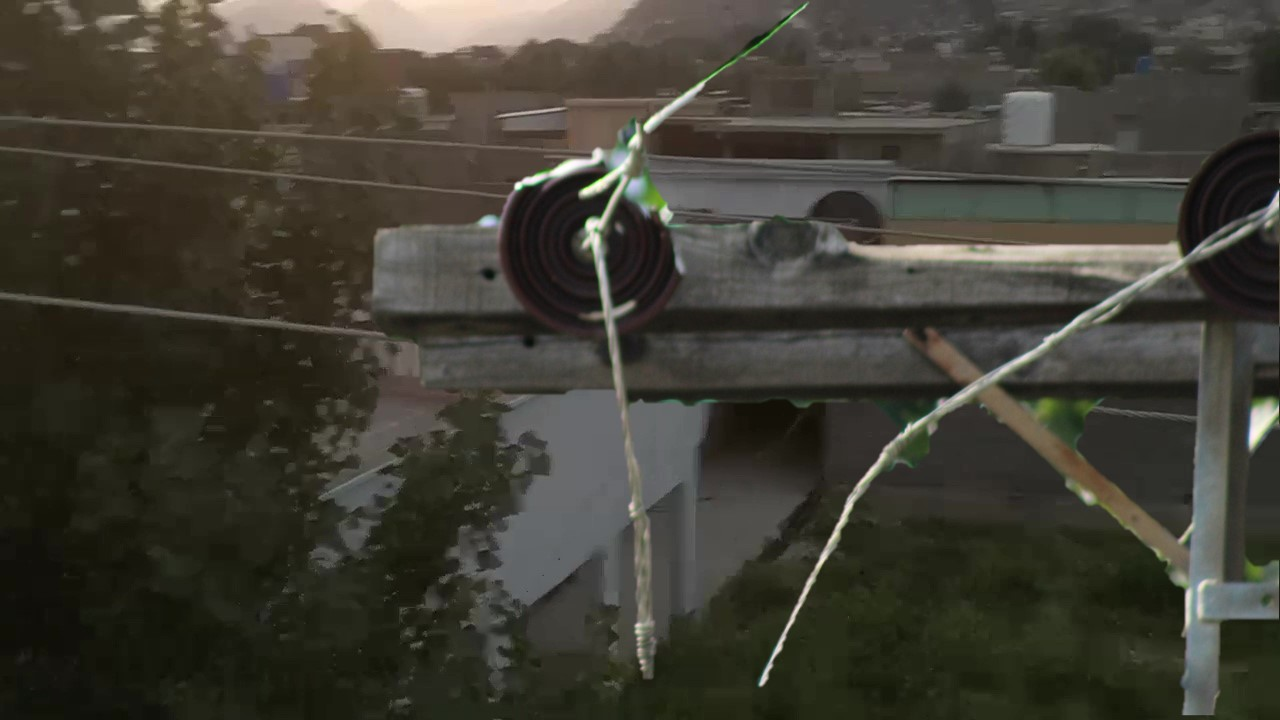defect_disc: (497, 147, 686, 339)
